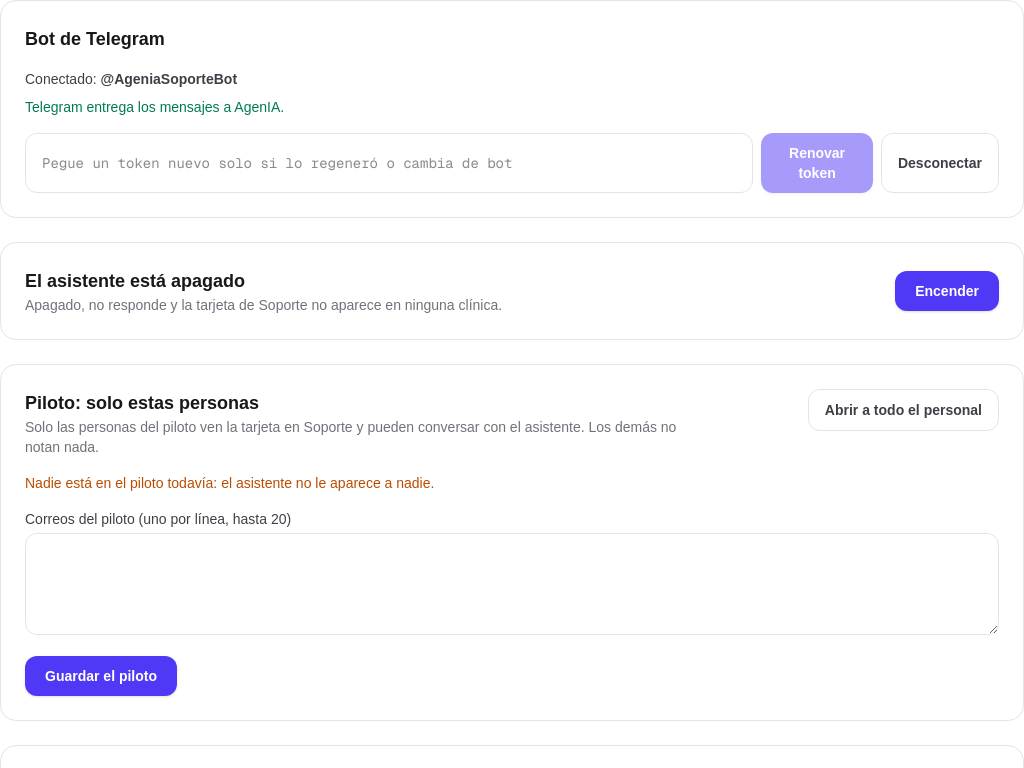
Test: SoporteBotClient › enciende y apaga
Click the button "Encender" at (947, 291), box [895,271,999,311]
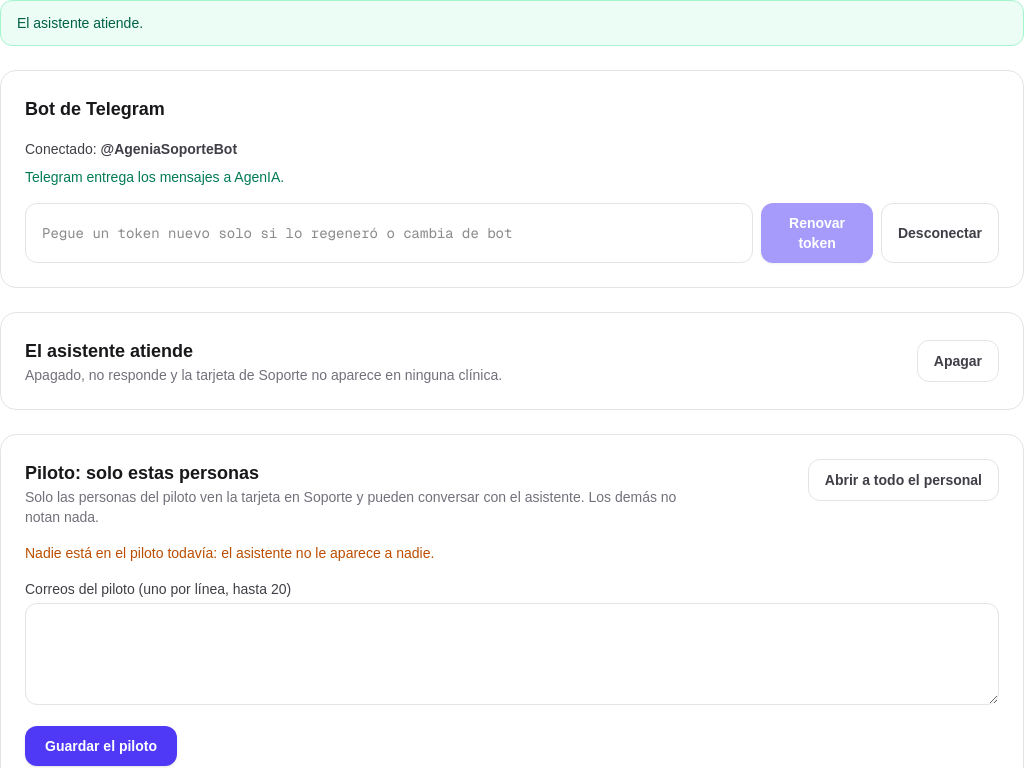
Check: the heading "El asistente atiende" is shown, box [25,341,193,361]
Check: the button "Apagar" is shown, box [917,340,999,382]
